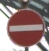No entry: (5, 6, 44, 45)
